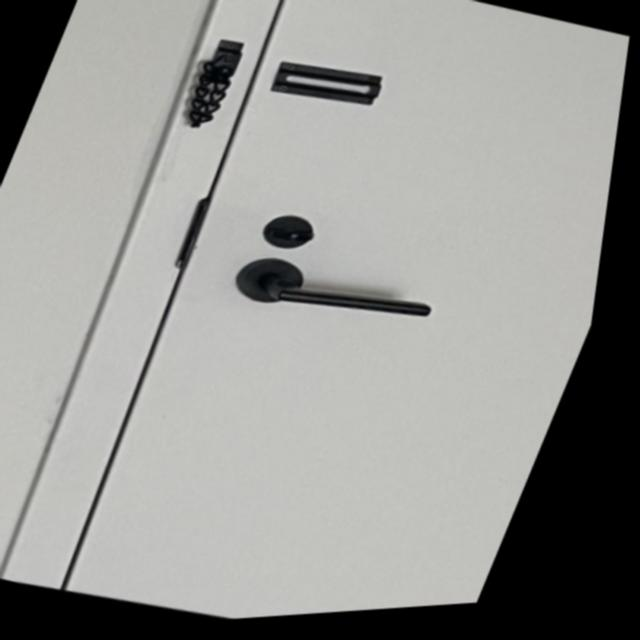door_handle: (214, 228, 484, 382)
